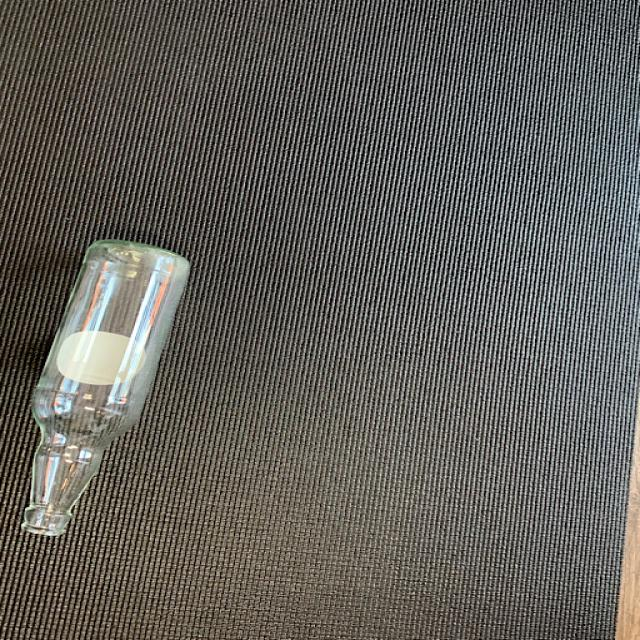Glass Bottle: (20, 234, 196, 540)
